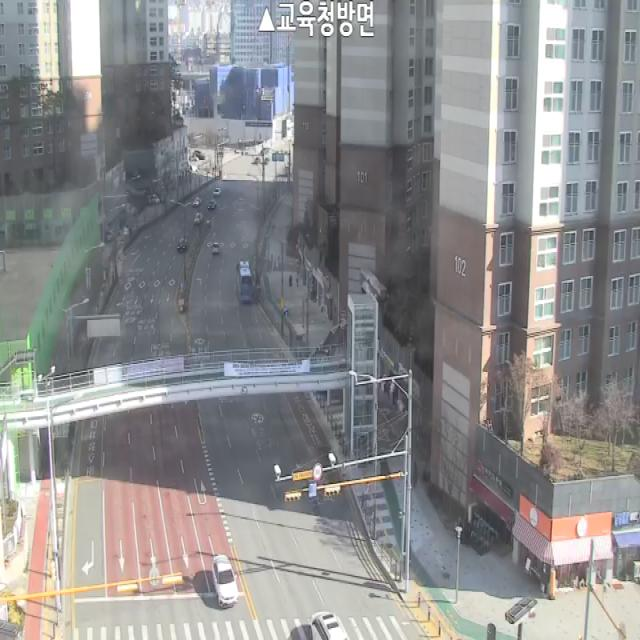Bus: (237, 260, 252, 301)
Car: (212, 554, 238, 608), (310, 611, 347, 640), (194, 150, 206, 160), (178, 239, 187, 252), (194, 212, 203, 224), (212, 242, 220, 255), (193, 197, 201, 208), (208, 200, 216, 210), (213, 188, 222, 195)
